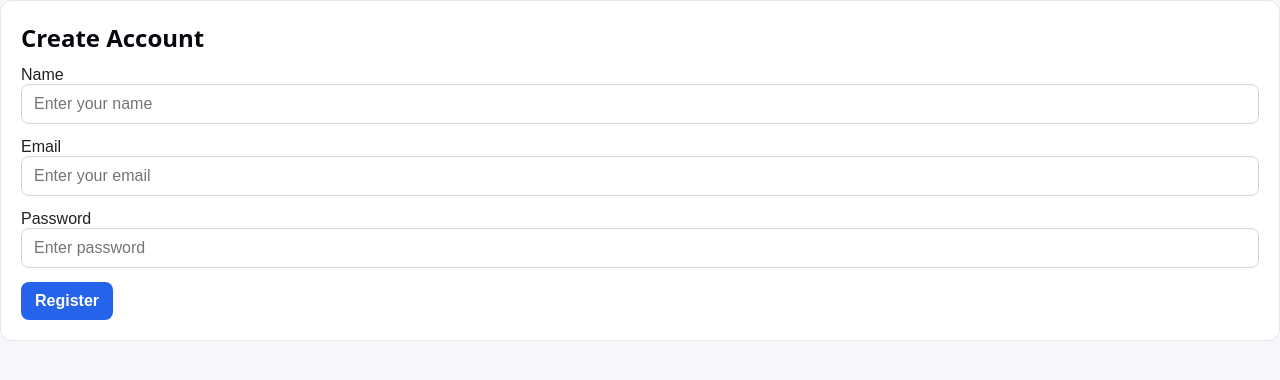
Test: RegisterForm › shows validation error when name is empty
Type "prem@example.com" into the field labelled "Email" at coordinates (640, 176), box [21, 156, 1259, 196]
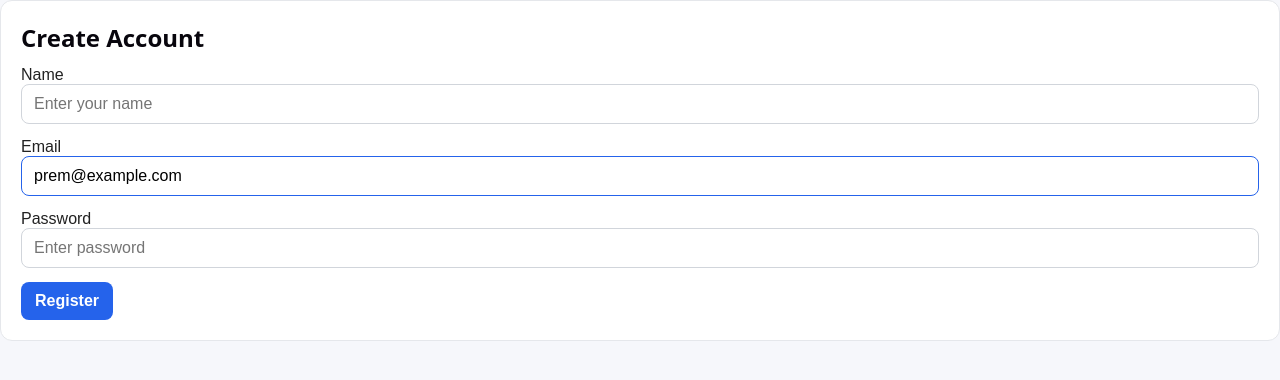
Type "password123" into the password field labelled "Password" at coordinates (640, 248), box [21, 228, 1259, 268]
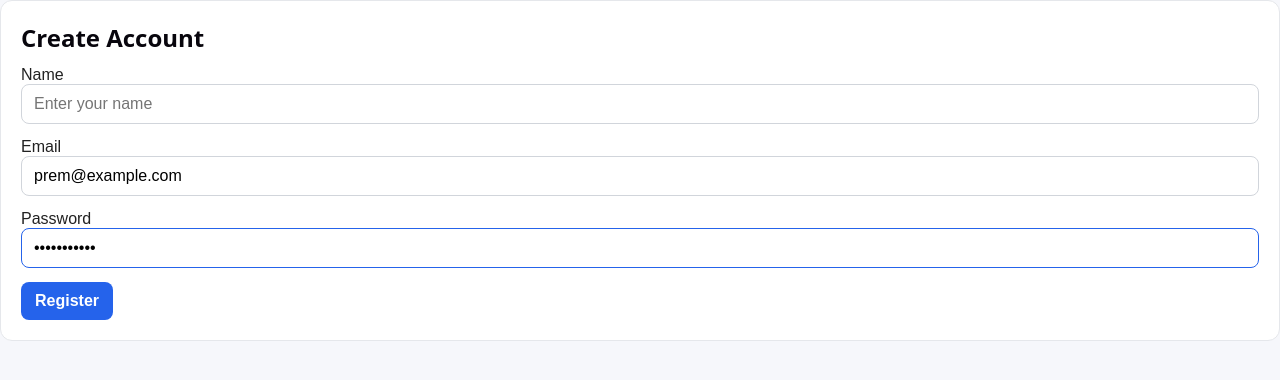
Click the button "Register" at coordinates (67, 301), box [21, 282, 113, 320]
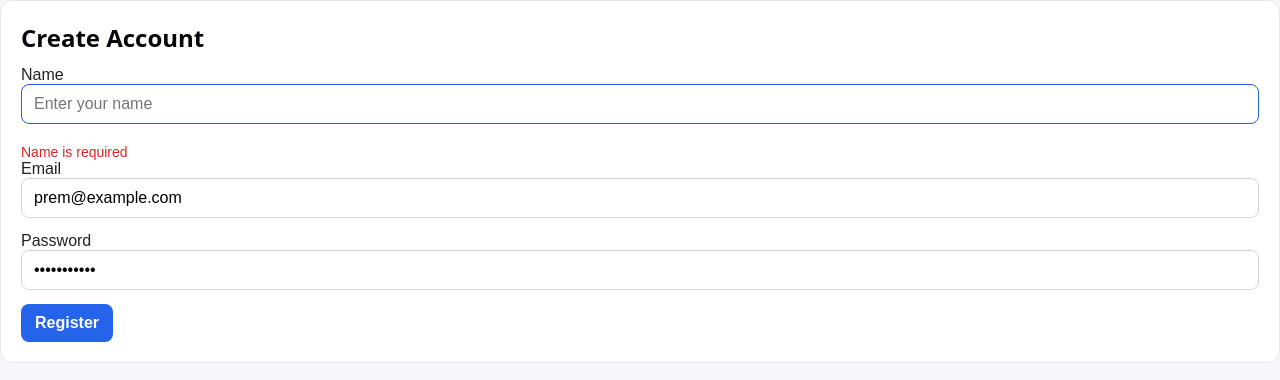
Expected: the text "Name is required" is shown, [21, 144, 128, 160]
